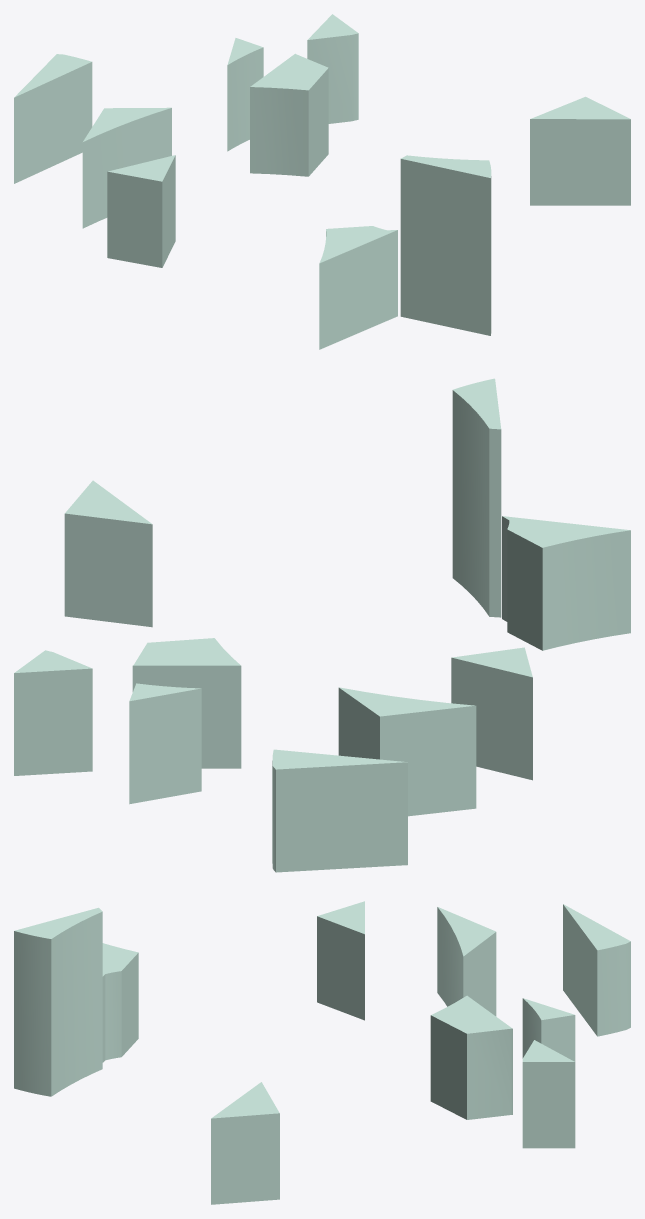
The picture shows the model from 3 angles, top to bottom: view 1: azimuth 30°, elevation 25°; view 2: azimuth 150°, elevation 25°; view 3: azimuth 270°, elevation 25°; orthographic projection. The views are drawn at different scales.
Visible parts, largest first — view 1: Renderer Node; view 2: Renderer Node; view 3: Renderer Node.
Part boxes in pixels (x1,y1,x2,y2): Renderer Node: [14, 14, 630, 349]; Renderer Node: [14, 378, 630, 872]; Renderer Node: [14, 901, 630, 1204].
Bounding box in the file's own units: 1.22 × 0.4141 × 1.47.
